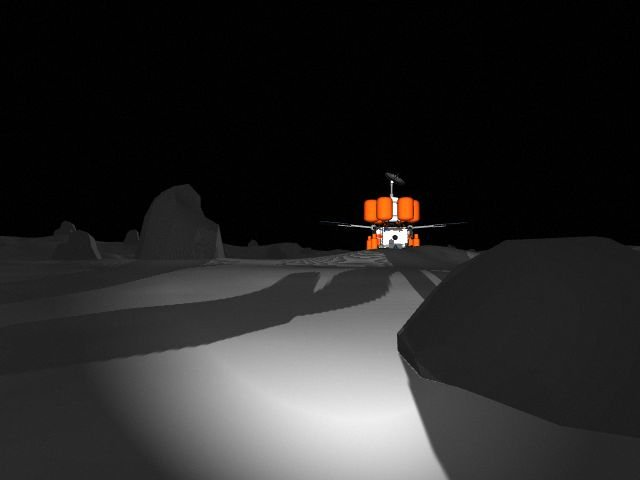homebase: (317, 172, 465, 260)
